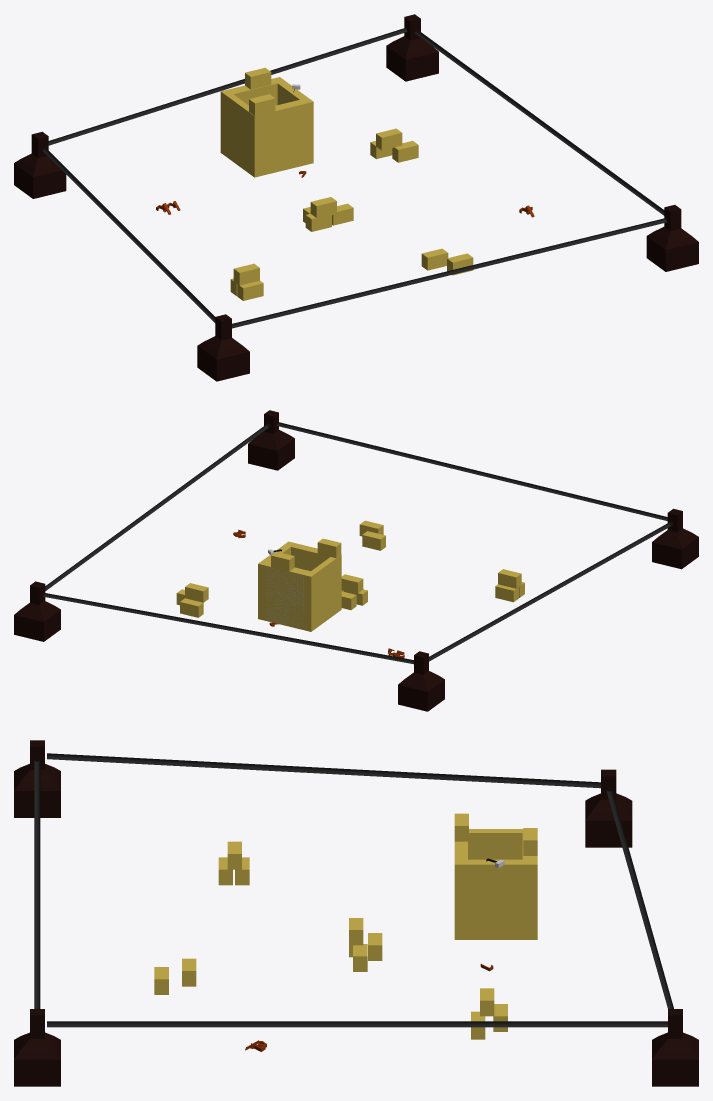
The model's file is site1.obj.
3 views of the same model, one above another, from view 1: azimuth 30°, elevation 25°; view 2: azimuth 150°, elevation 25°; view 3: azimuth 270°, elevation 25° (orthographic). The views are drawn at different scales.
Parts seen in each view (by area): view 1: Plane.011, Cylinder, Plane.012, Cube.003_Cube.006, Cube.004_Cube.007, Cube.002_Cube.005, Cube.001, Cylinder.001, Cylinder.003, Cylinder.002, Plane.009; view 2: Plane.009, Plane.012, Cylinder, Cube.002_Cube.005, Cube.001, Cube.004_Cube.007, Cube.003_Cube.006, Cylinder.001, Cylinder.002, Cylinder.003, Plane.010, Plane.011 (+1 smaller); view 3: Plane.013, Cylinder.003, Cylinder.002, Cube.002_Cube.005, Cube.003_Cube.006, Cube.001, Cube.004_Cube.007, Cylinder, Plane.012, Cylinder.001, Plane.009, Plane.011.
Boxes of the visible parts, x1=… form: Plane.011: x1=255, y1=98, x2=313, y2=177; Cylinder: x1=232, y1=218, x2=667, y2=328; Plane.012: x1=220, y1=91, x2=254, y2=177; Cube.003_Cube.006: x1=646, y1=205, x2=698, y2=271; Cube.004_Cube.007: x1=197, y1=314, x2=249, y2=381; Cube.002_Cube.005: x1=386, y1=14, x2=438, y2=81; Cube.001: x1=14, y1=131, x2=66, y2=198; Cylinder.001: x1=48, y1=27, x2=407, y2=145; Cylinder.003: x1=414, y1=29, x2=664, y2=215; Cylinder.002: x1=42, y1=147, x2=215, y2=322; Plane.009: x1=221, y1=77, x2=285, y2=105; Plane.009: x1=258, y1=561, x2=315, y2=630; Plane.012: x1=305, y1=554, x2=341, y2=631; Cylinder: x1=276, y1=422, x2=667, y2=520; Cube.002_Cube.005: x1=14, y1=581, x2=60, y2=641; Cube.001: x1=398, y1=651, x2=444, y2=711; Cube.004_Cube.007: x1=652, y1=508, x2=698, y2=569; Cube.003_Cube.006: x1=248, y1=410, x2=294, y2=470; Cylinder.001: x1=43, y1=593, x2=413, y2=664; Cylinder.002: x1=429, y1=521, x2=673, y2=661; Cylinder.003: x1=45, y1=423, x2=270, y2=590; Plane.010: x1=265, y1=566, x2=305, y2=626; Plane.011: x1=284, y1=542, x2=329, y2=571; Plane.013: x1=468, y1=859, x2=522, y2=939; Cylinder.003: x1=47, y1=1021, x2=667, y2=1027; Cylinder.002: x1=47, y1=753, x2=600, y2=788; Cube.002_Cube.005: x1=652, y1=1009, x2=698, y2=1086; Cube.003_Cube.006: x1=14, y1=1009, x2=60, y2=1086; Cube.001: x1=585, y1=769, x2=632, y2=847; Cube.004_Cube.007: x1=14, y1=740, x2=60, y2=817; Cylinder: x1=34, y1=760, x2=40, y2=1008; Plane.012: x1=468, y1=829, x2=523, y2=859; Cylinder.001: x1=606, y1=790, x2=673, y2=1008; Plane.009: x1=522, y1=832, x2=537, y2=939; Plane.011: x1=454, y1=841, x2=467, y2=939.
Size of the model in its own units: 16.43 by 3.29 by 16.48.
